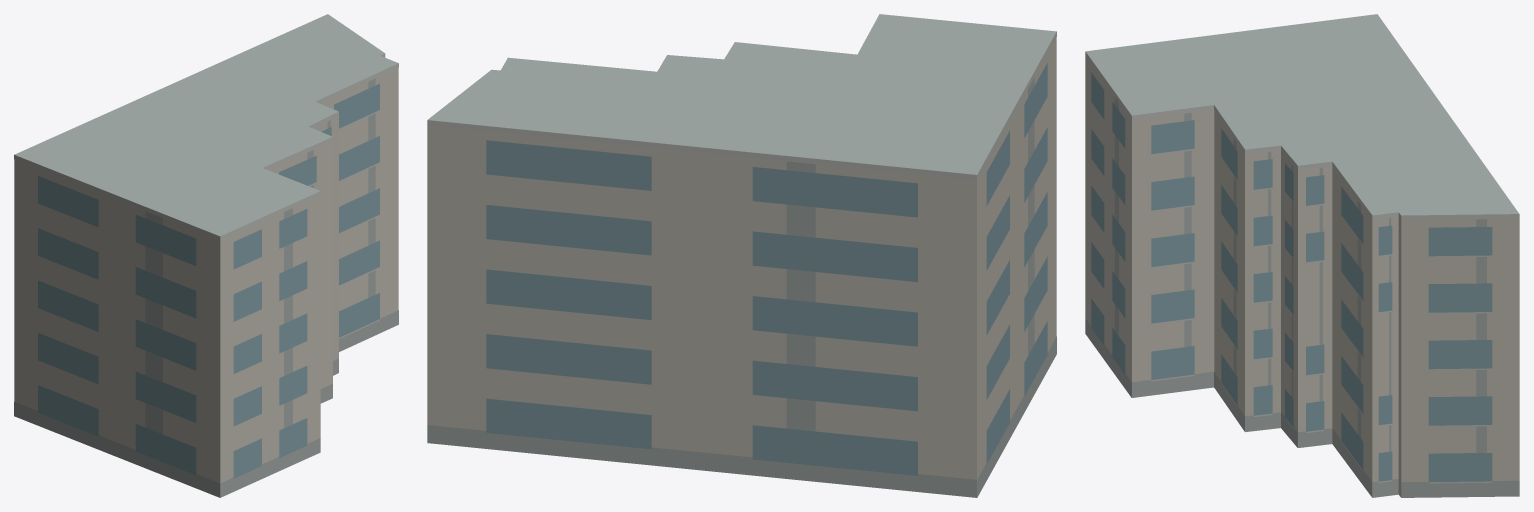
File: survey-upis-32825909.glb
The picture shows the model from 3 angles, left to right: view 1: azimuth 30°, elevation 25°; view 2: azimuth 150°, elevation 25°; view 3: azimuth 270°, elevation 25°; orthographic projection. The views are drawn at different scales.
Visible parts, largest first — view 1: survey-upis-32825909.tmp; view 2: survey-upis-32825909.tmp; view 3: survey-upis-32825909.tmp.
Part boxes in pixels (box(x1,y1,x2,y2)): survey-upis-32825909.tmp: box(14, 14, 398, 497); survey-upis-32825909.tmp: box(427, 14, 1056, 497); survey-upis-32825909.tmp: box(1085, 14, 1519, 497).
Size of the model in its own units: 21.89 by 14.3 by 19.93.
